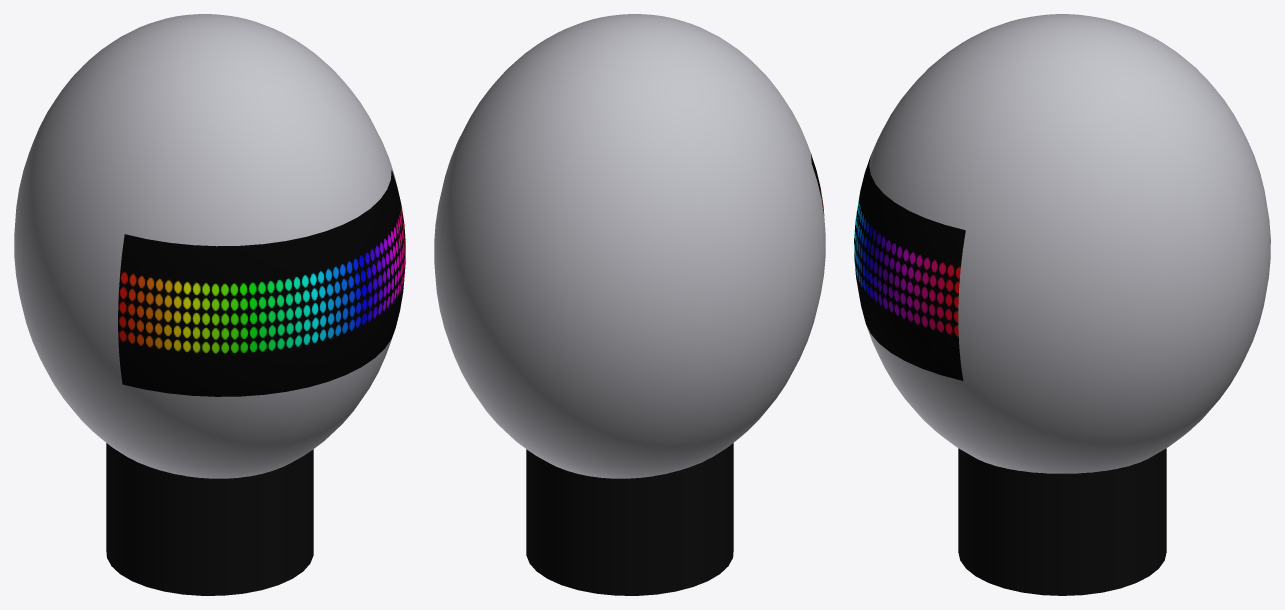
File: casque.obj
3 renders of one model, left to right at view 1: azimuth 30°, elevation 25°; view 2: azimuth 150°, elevation 25°; view 3: azimuth 270°, elevation 25°, orthographic.
Visible parts, largest first — view 1: casque, visiere, col; view 2: casque, col; view 3: casque, col, visiere.
Boxes of the visible parts, bbox=[...] form: casque: bbox=[14, 14, 396, 478]; visiere: bbox=[118, 170, 405, 396]; col: bbox=[106, 443, 313, 595]; casque: bbox=[434, 14, 825, 478]; col: bbox=[526, 443, 733, 595]; casque: bbox=[866, 14, 1270, 473]; col: bbox=[958, 448, 1166, 595]; visiere: bbox=[854, 156, 965, 380].
Bounding box in the file's own units: 0.2399 × 0.36 × 0.2598.
Materials: 3 (1 with a texture image).
